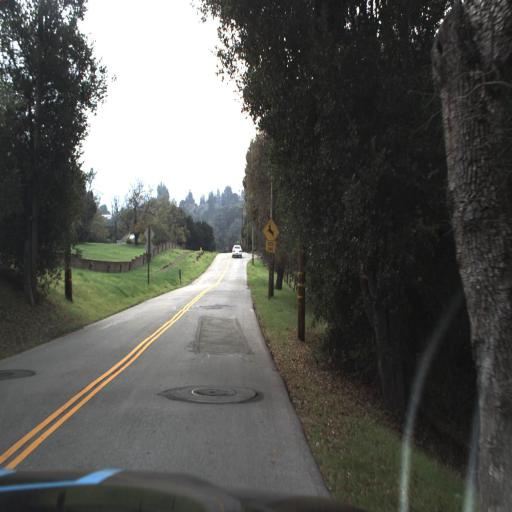car: (228, 241, 246, 263)
